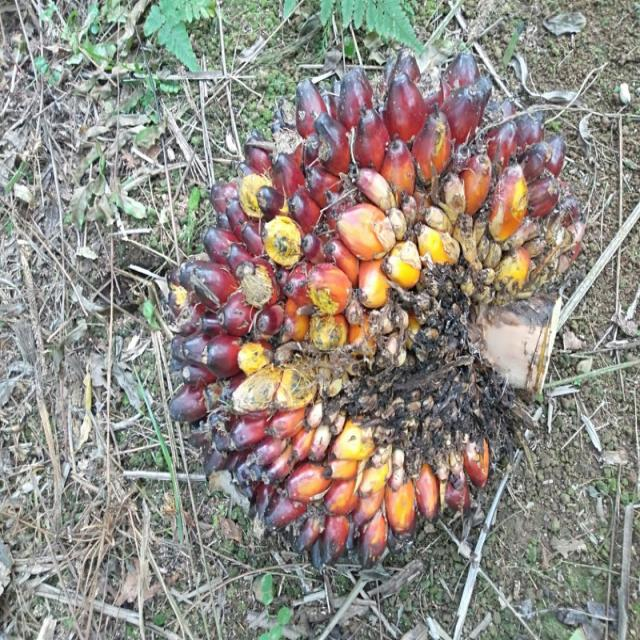fraksi 1: (119, 19, 581, 585)
